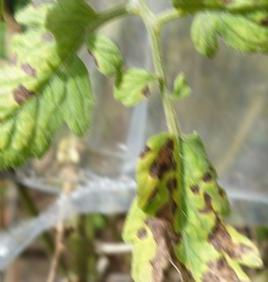Tomato Septoria leaf spot: (122, 124, 268, 282), (0, 0, 118, 188), (160, 0, 268, 58)
